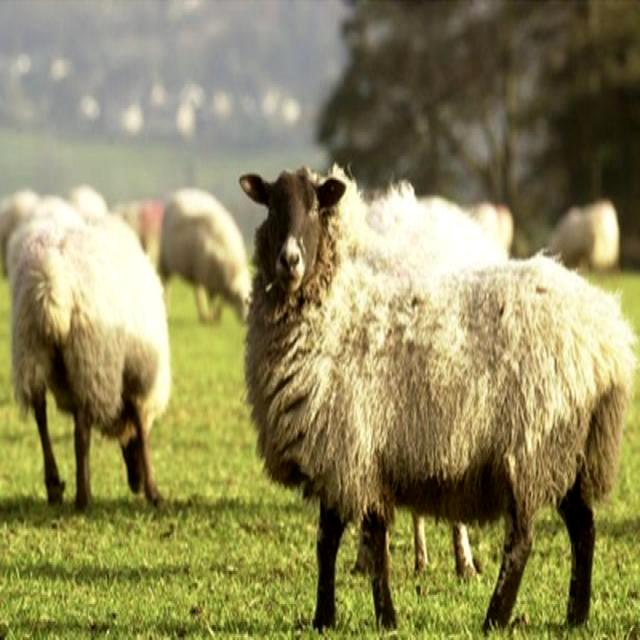sheep: (239, 165, 631, 633)
